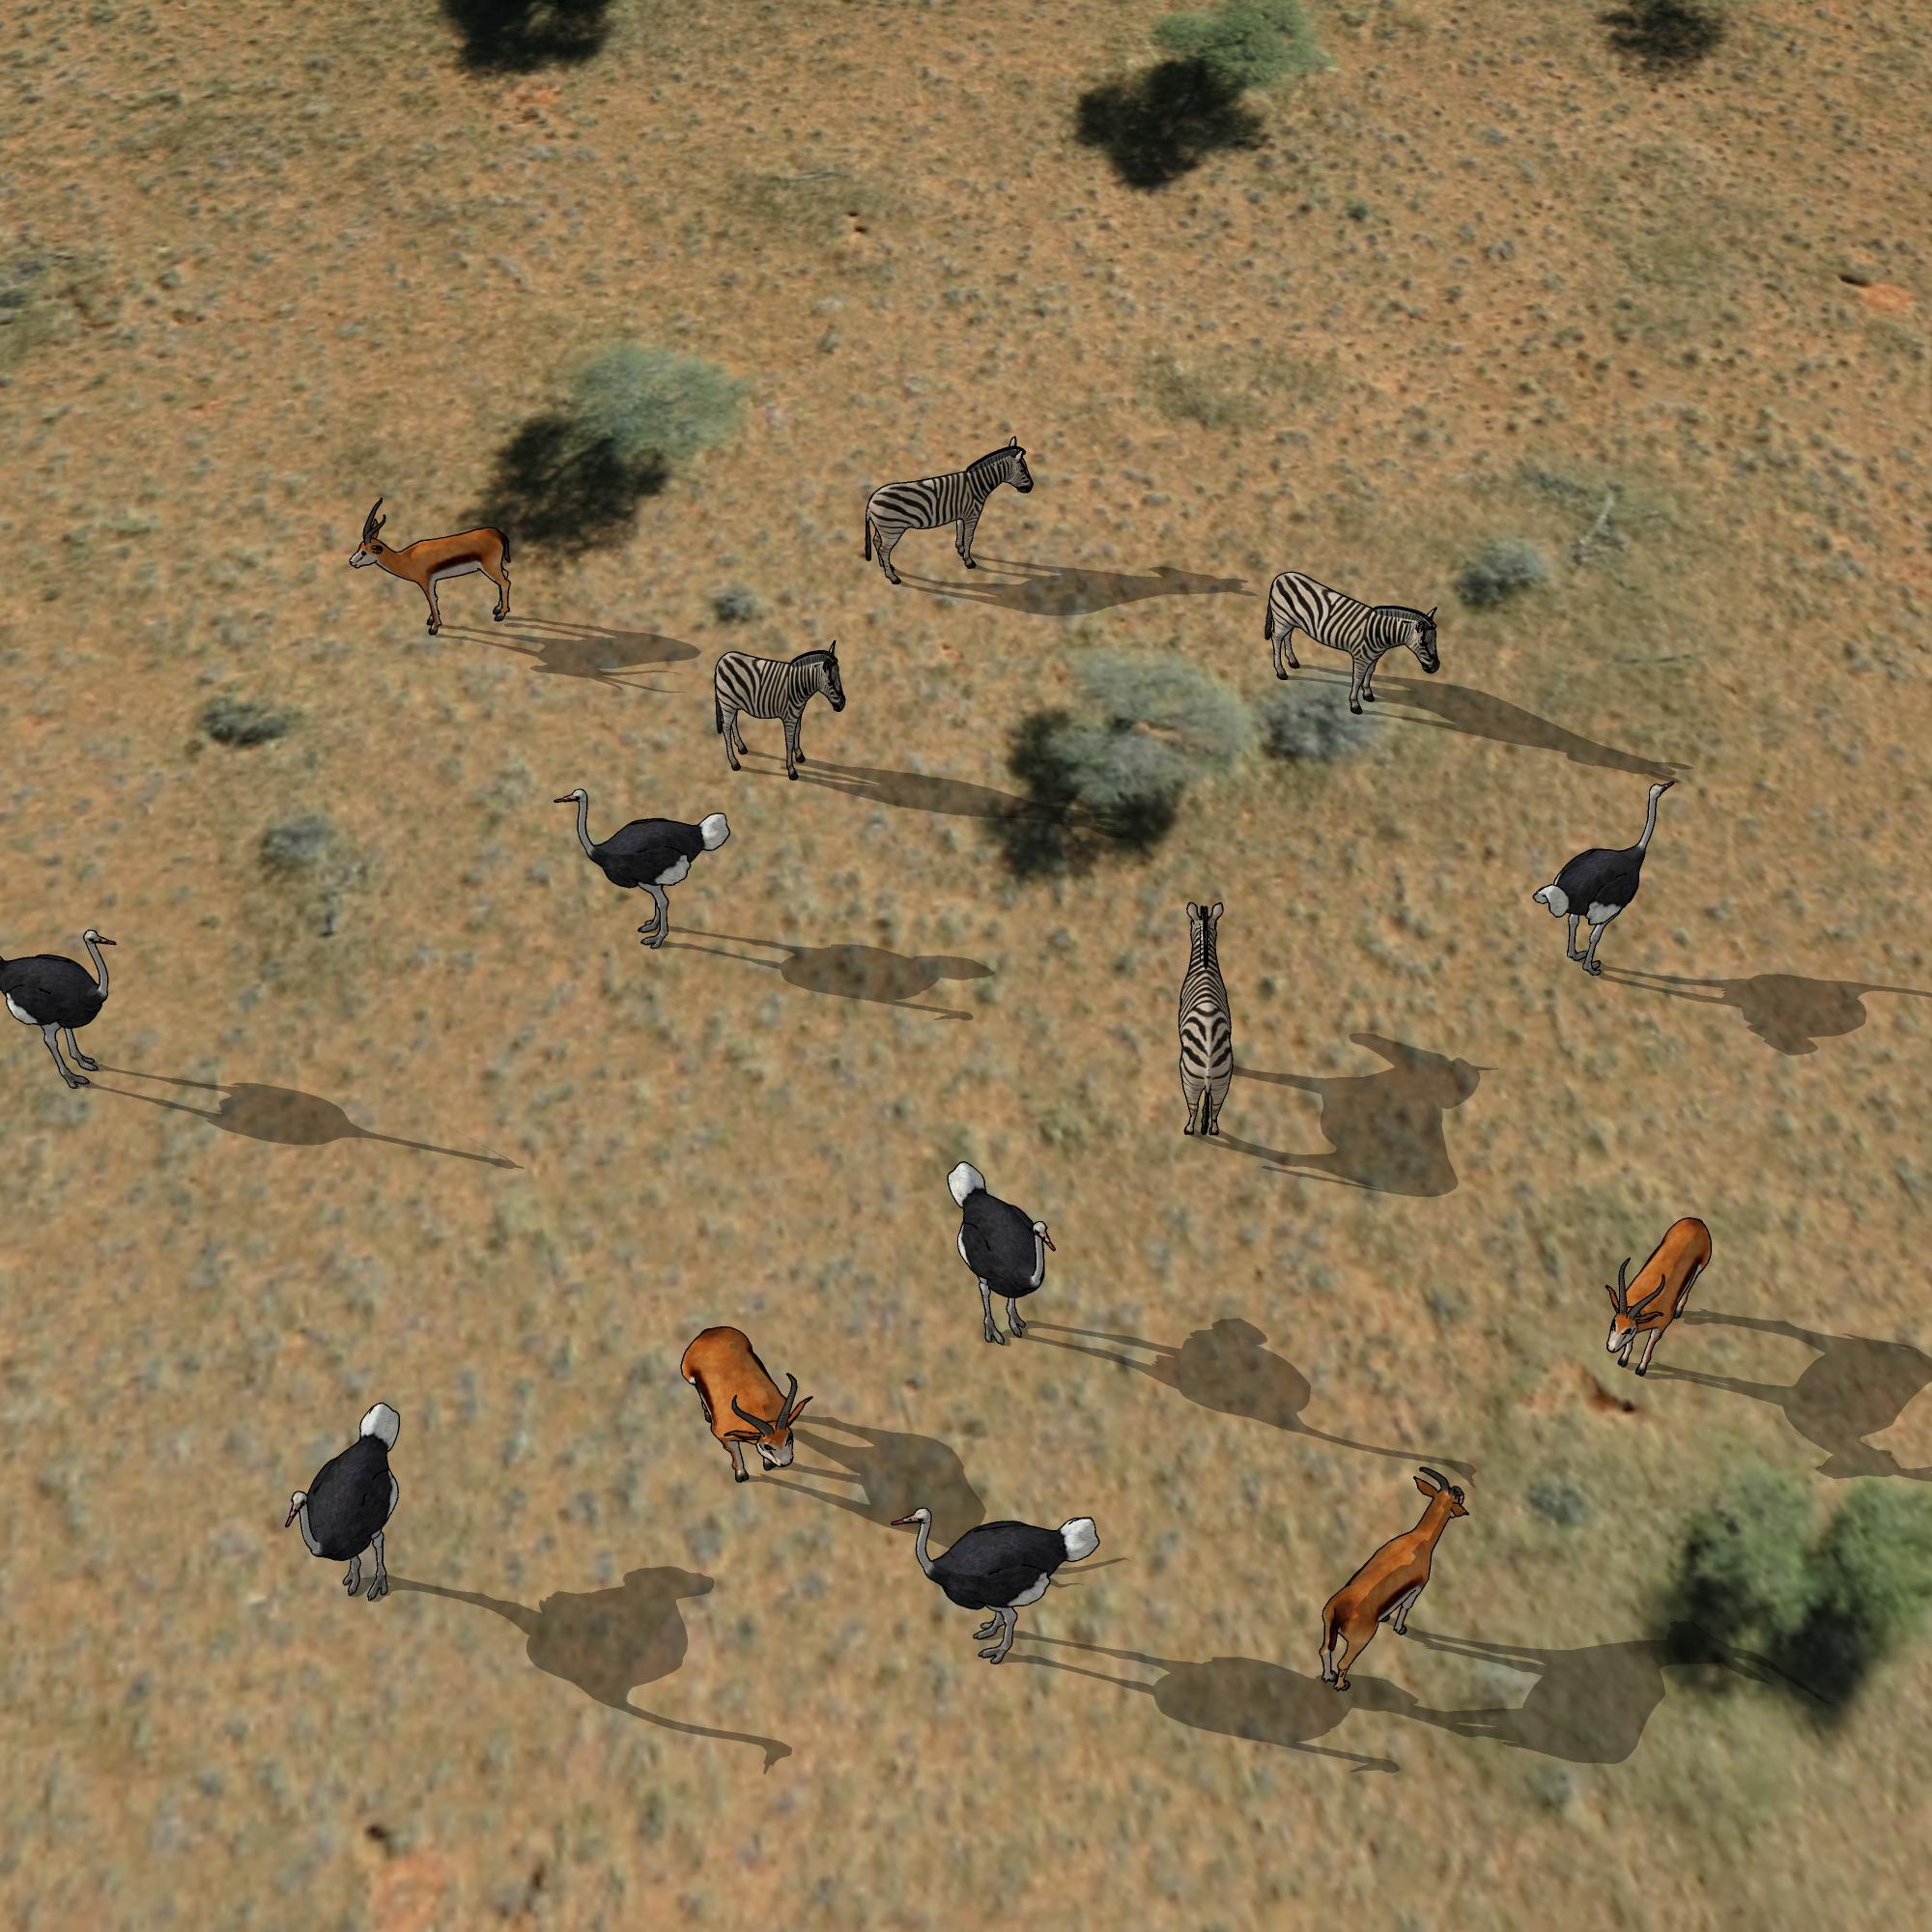ostrich: (283, 1384, 448, 1623), (900, 1495, 1109, 1668), (545, 781, 740, 962), (1534, 771, 1689, 978), (1, 919, 151, 1101), (944, 1152, 1058, 1353)
springbok: (1313, 1463, 1472, 1691), (677, 1310, 822, 1506), (349, 489, 537, 639), (1600, 1204, 1717, 1377)
zebra: (1254, 560, 1444, 718), (860, 436, 1040, 585), (1165, 898, 1249, 1143), (707, 634, 842, 781)
